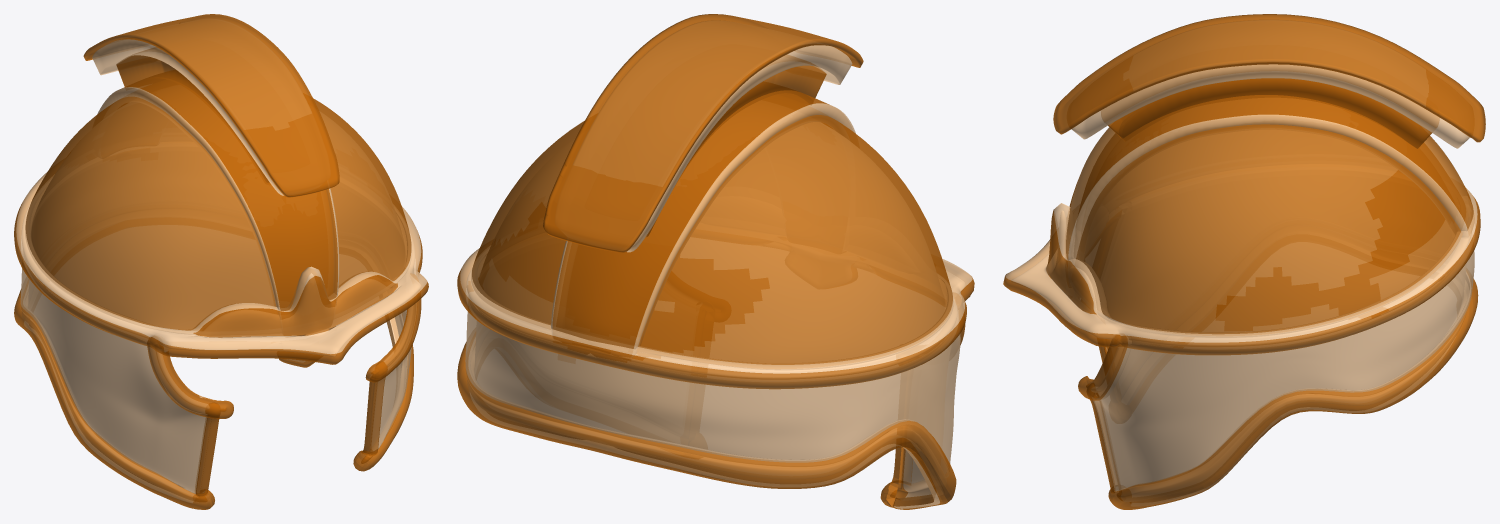
Rendered from Spartan_Hat.fbx.
The picture shows the model from 3 angles, left to right: view 1: azimuth 30°, elevation 25°; view 2: azimuth 150°, elevation 25°; view 3: azimuth 270°, elevation 25°; orthographic projection. The views are drawn at different scales.
Parts seen in each view (by area): view 1: Spartan Head; view 2: Spartan Head; view 3: Spartan Head.
Boxes of the visible parts, x1,y1,x2,y2 form: Spartan Head: [14, 14, 428, 509]; Spartan Head: [457, 14, 974, 509]; Spartan Head: [1003, 14, 1485, 509].
Bounding box in the file's own units: 110 × 118 × 121.
